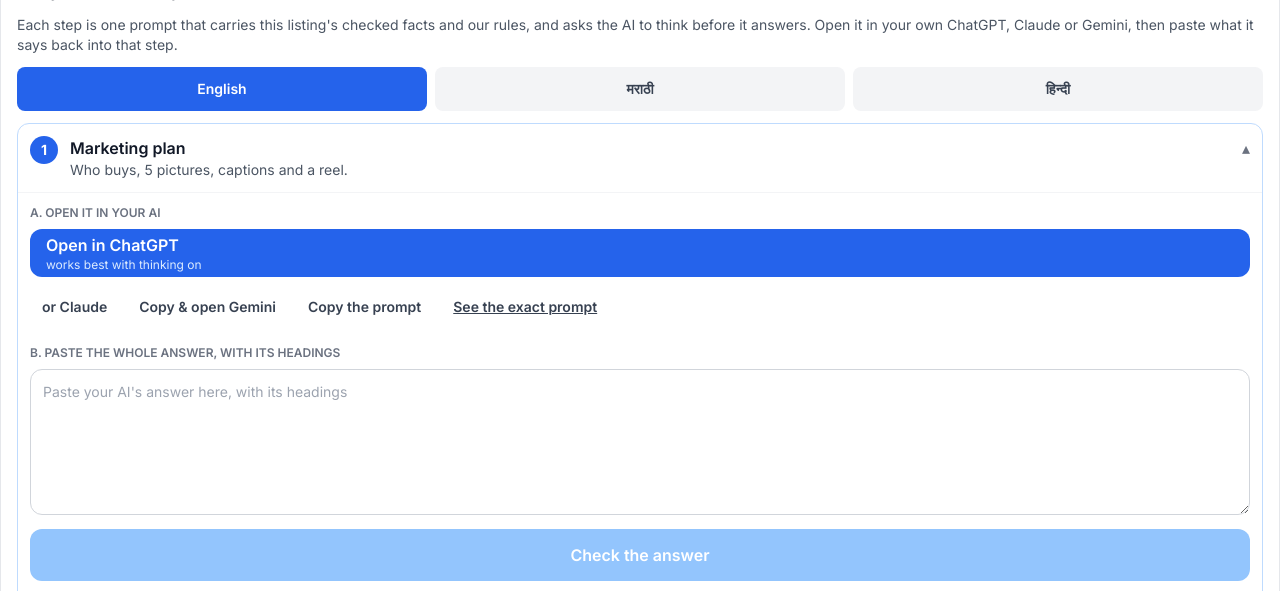
Scenario: keeps each step’s own paste box and answer
This screenshot has width=1280, height=591.
Type "HEADLINE: A 3 BHK in Kharadi" into the text box named "The answer to Marketing plan".
click(640, 442); type("HEADLINE: A 3 BHK in Kharadi")  # box [30,369,1250,515]
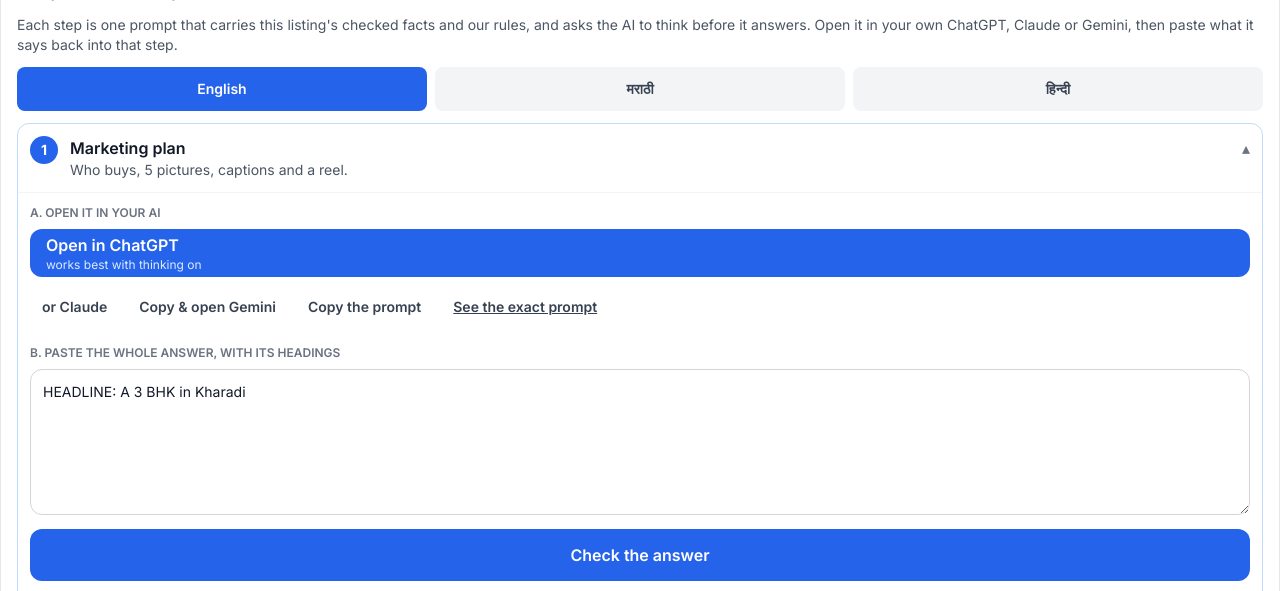
Click the button "Check the answer".
click(640, 555)  # box [30,529,1250,581]
(page scrolled)
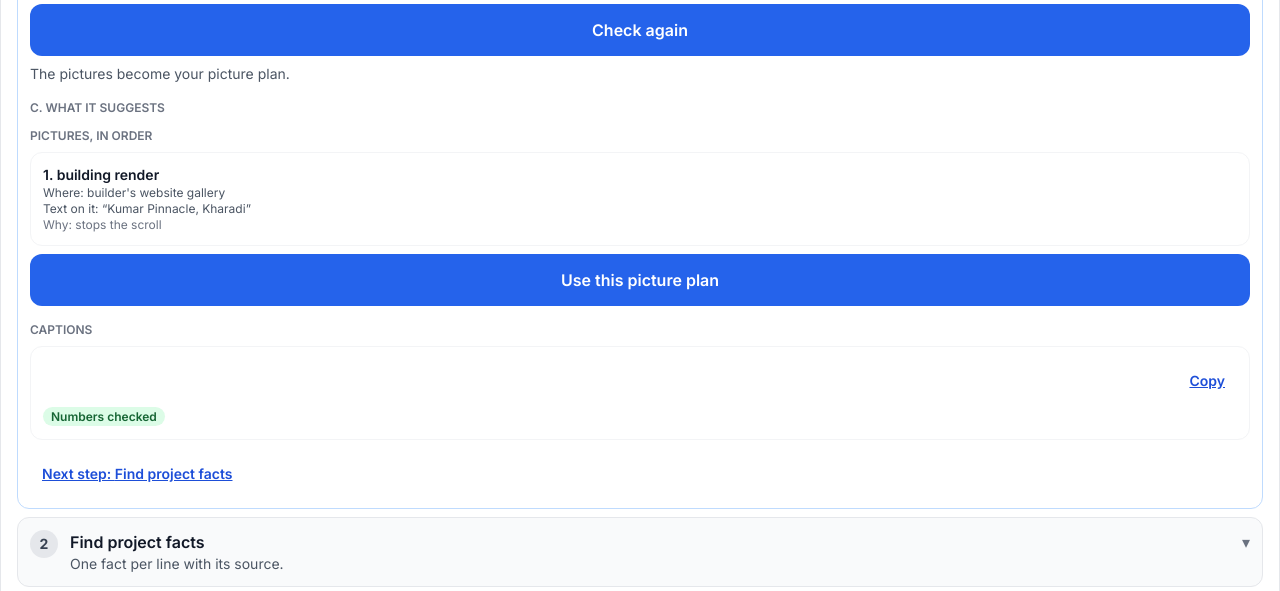
Result: the text "Pictures, in order" is shown at [30,128,152,143]
Click the button "2 Find project facts One fact per line with its source. ▾".
click(137, 542)  # box [18,518,1262,586]
(page scrolled)
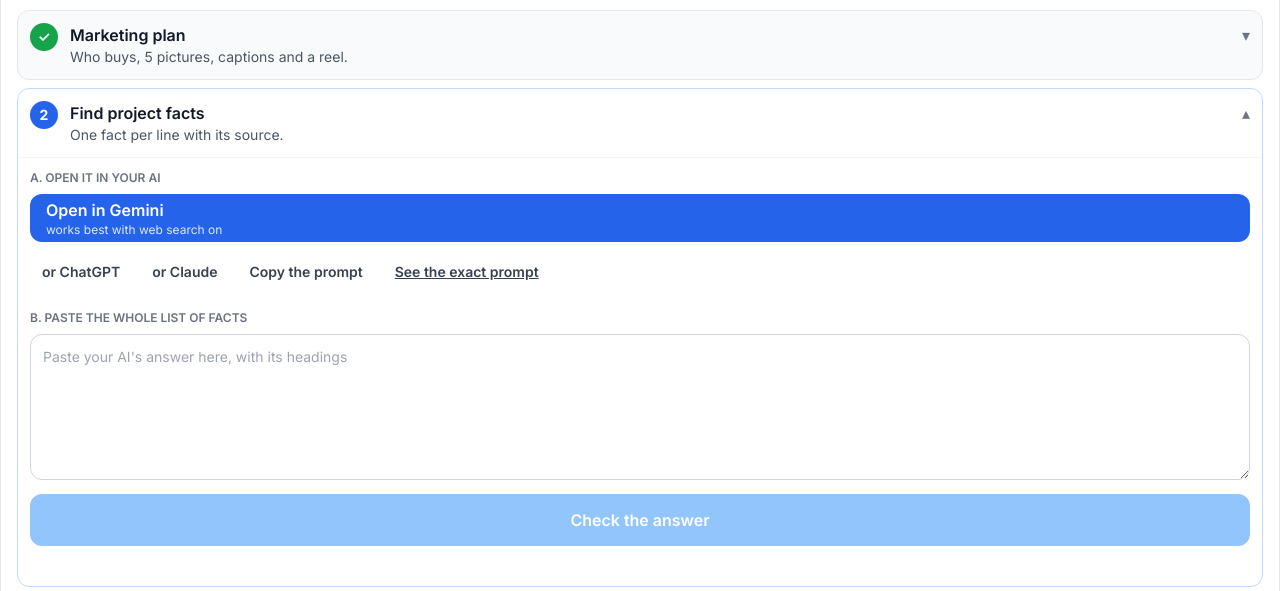
Click the button "Marketing plan".
click(128, 35)  # box [18,11,1262,79]
(page scrolled)
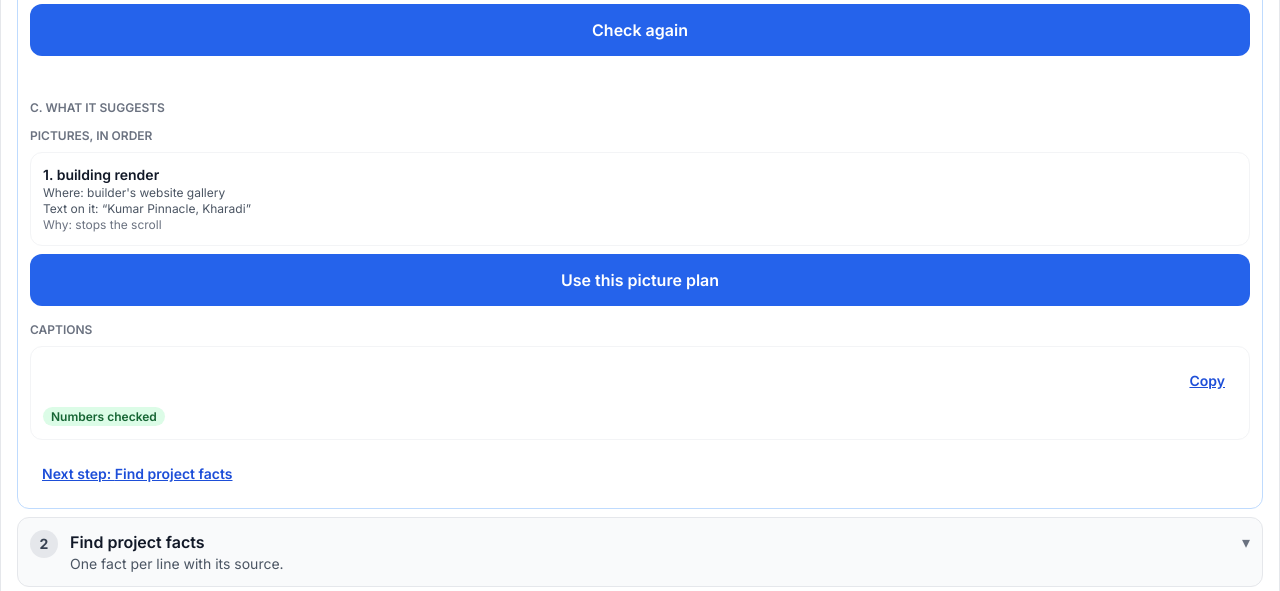
Result: the text "Pictures, in order" is shown at [30,128,152,143]
